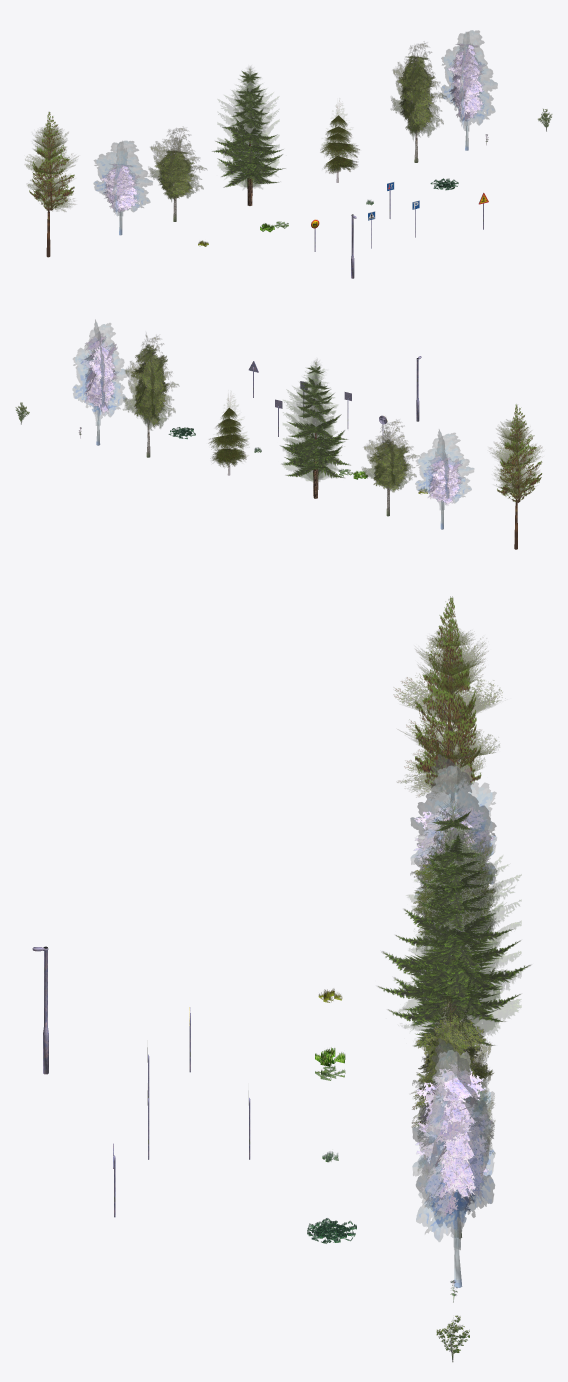
Rendered from FoliagetJaLiikennemerkit.glb.
3 renders of one model, top to bottom at view 1: azimuth 30°, elevation 25°; view 2: azimuth 150°, elevation 25°; view 3: azimuth 270°, elevation 25°, orthographic. The views are drawn at different scales.
Visible parts, largest first — view 1: spruceA, birchB_winter, pineA, birchB, birchA_winter, birchA, pineB; view 2: spruceA, birchB_winter, birchB, pineA, birchA_winter, birchA, pineB; view 3: spruceA, birchB_winter, pineA, birchA_winter, birchB, birchA.
Part boxes in pixels (box(x1,y1,x2,y2)): spruceA: box(212, 67, 285, 205); birchB_winter: box(441, 30, 497, 150); pineA: box(25, 111, 78, 257); birchB: box(391, 41, 447, 162); birchA_winter: box(93, 140, 152, 235); birchA: box(148, 127, 206, 221); pineB: box(320, 101, 359, 182); spruceA: box(280, 360, 350, 498); birchB_winter: box(72, 319, 128, 445); birchB: box(123, 335, 179, 457); pineA: box(490, 404, 542, 549); birchA_winter: box(415, 429, 474, 529); birchA: box(361, 418, 419, 516); pineB: box(208, 398, 248, 475); spruceA: box(378, 799, 530, 1046); birchB_winter: box(412, 1038, 495, 1287); pineA: box(393, 596, 502, 802); birchA_winter: box(410, 754, 496, 899); birchB: box(412, 988, 495, 1238); birchA: box(410, 806, 496, 951).
Size of the model in its own units: 36.54 by 9.42 by 14.8.
Materials: 29 (27 with a texture image).
